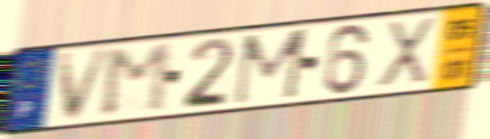2: (183, 36, 238, 110)
6: (321, 22, 371, 97)
M: (229, 25, 314, 109), (99, 40, 175, 121)
V: (55, 45, 116, 125)
X: (373, 15, 438, 90)
